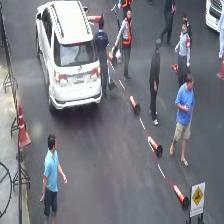normal: (171, 74, 197, 167), (39, 134, 66, 222), (144, 36, 166, 127), (110, 8, 136, 80)
